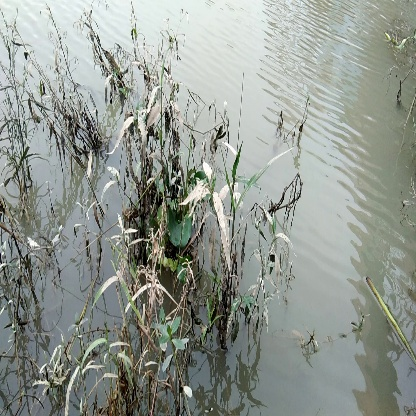grass: (114, 116, 212, 270)
